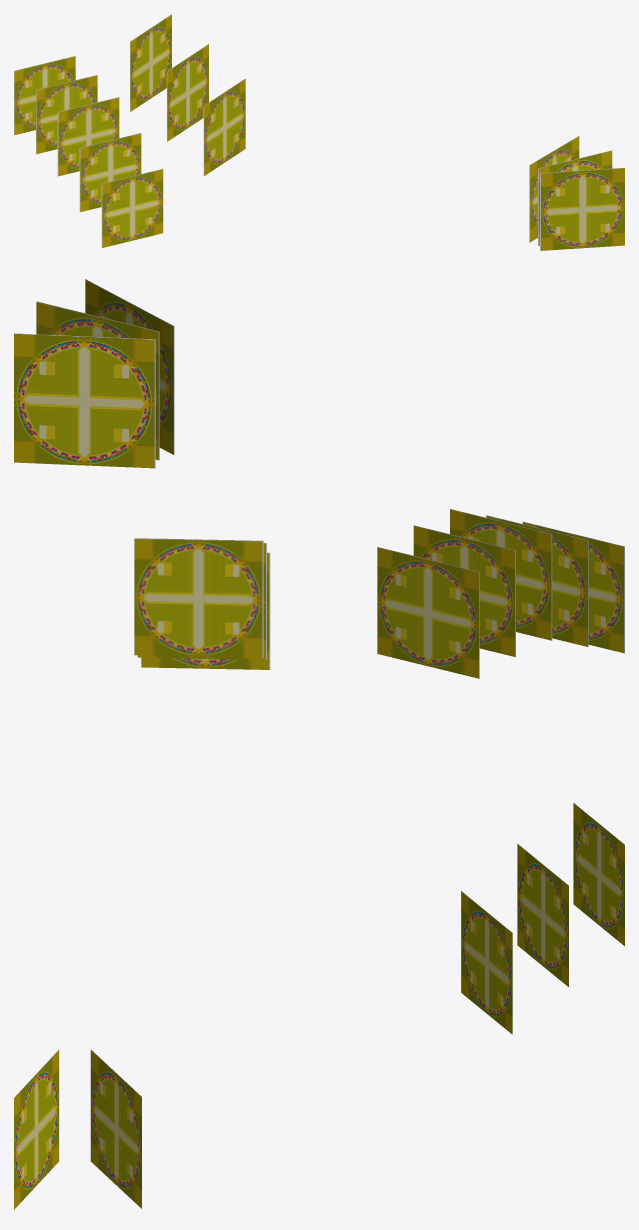
The picture shows the model from 3 angles, top to bottom: view 1: azimuth 30°, elevation 25°; view 2: azimuth 150°, elevation 25°; view 3: azimuth 270°, elevation 25°; orthographic projection. The views are drawn at different scales.
Visible parts, largest first — view 1: polygon9; view 2: polygon9; view 3: polygon9.
Part boxes in pixels (box(x1,y1,x2,y2)): polygon9: box(14, 14, 624, 250); polygon9: box(14, 279, 624, 678); polygon9: box(14, 803, 624, 1209).
Bounding box in the file's own units: 4.46 × 3.78 × 1.39.
Materials: 1 (1 with a texture image).
